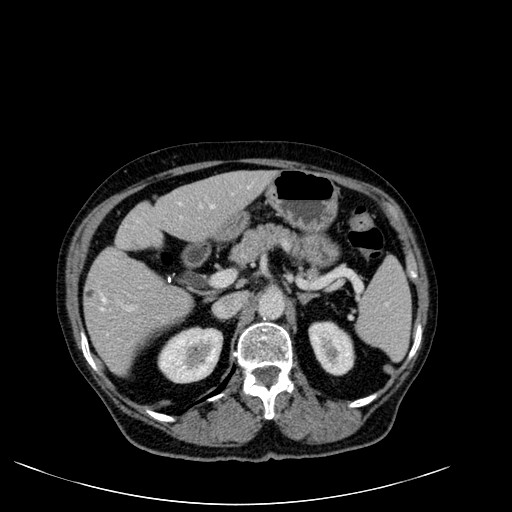clipe: (167, 276, 172, 284)
